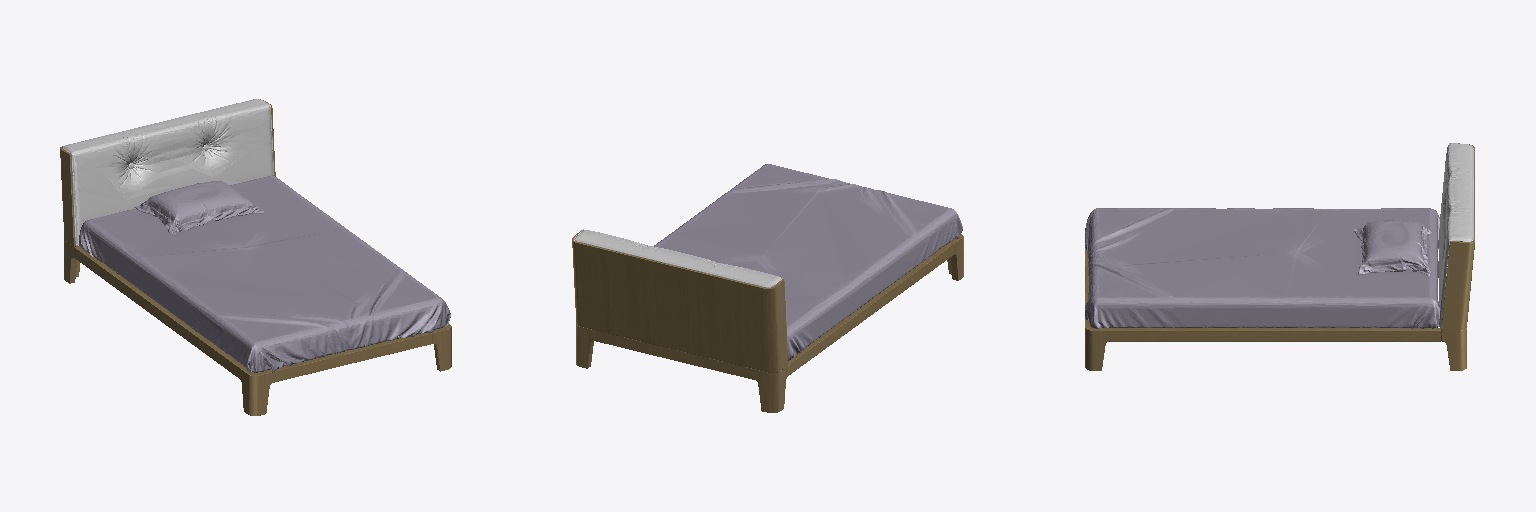
The picture shows the model from 3 angles: view 1: azimuth 30°, elevation 25°; view 2: azimuth 150°, elevation 25°; view 3: azimuth 270°, elevation 25°; orthographic projection.
Parts seen in each view (by area): view 1: solid_001, solid_003, solid_004; view 2: solid_001, solid_004, solid_003; view 3: solid_001, solid_004, solid_003.
Boxes of the visible parts, x1=… form: solid_001: x1=79, y1=175, x2=450, y2=372; solid_003: x1=62, y1=99, x2=273, y2=245; solid_004: x1=60, y1=99, x2=451, y2=415; solid_001: x1=654, y1=164, x2=962, y2=360; solid_004: x1=572, y1=230, x2=963, y2=412; solid_003: x1=574, y1=229, x2=782, y2=287; solid_001: x1=1085, y1=208, x2=1439, y2=328; solid_004: x1=1085, y1=143, x2=1474, y2=370; solid_003: x1=1439, y1=143, x2=1473, y2=328.
Bounding box in the file's own units: 1.2 × 0.741 × 2.
1 materials, 1 textured.